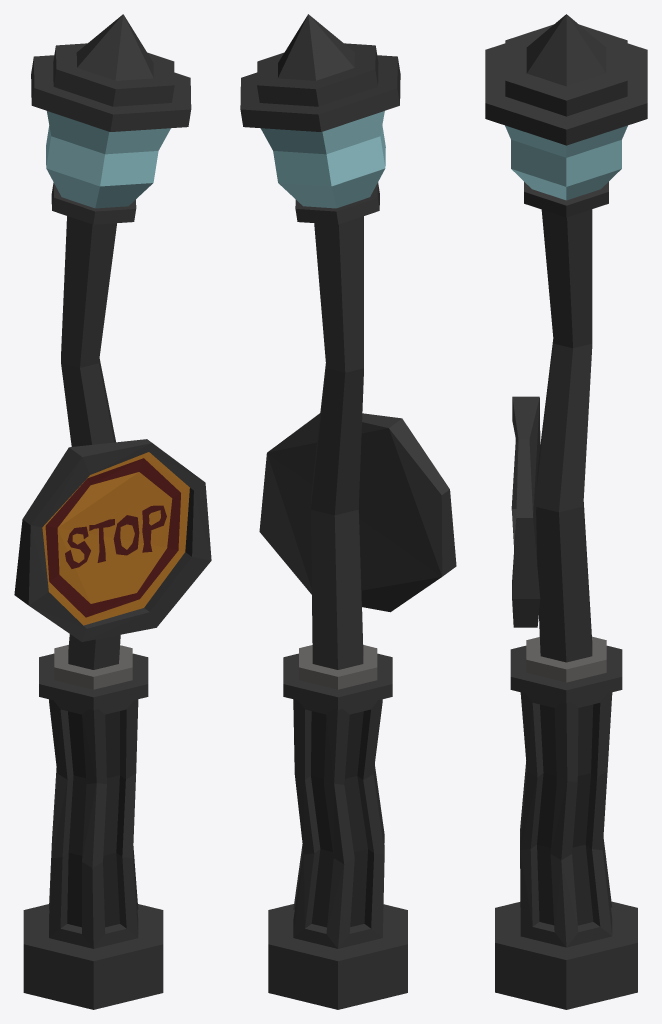
The model's file is Street_light_A_03.FBX.
3 renders of one model, left to right at view 1: azimuth 30°, elevation 25°; view 2: azimuth 150°, elevation 25°; view 3: azimuth 270°, elevation 25°, orthographic. The views are drawn at different scales.
Visible parts, largest first — view 1: Street_light_A_03; view 2: Street_light_A_03; view 3: Street_light_A_03.
Boxes of the visible parts, x1,y1,x2,y2 form: Street_light_A_03: (14, 14, 211, 1009); Street_light_A_03: (240, 14, 456, 1009); Street_light_A_03: (485, 14, 647, 1009).
Bounding box in the file's own units: 0.8107 × 3.92 × 0.5896.
